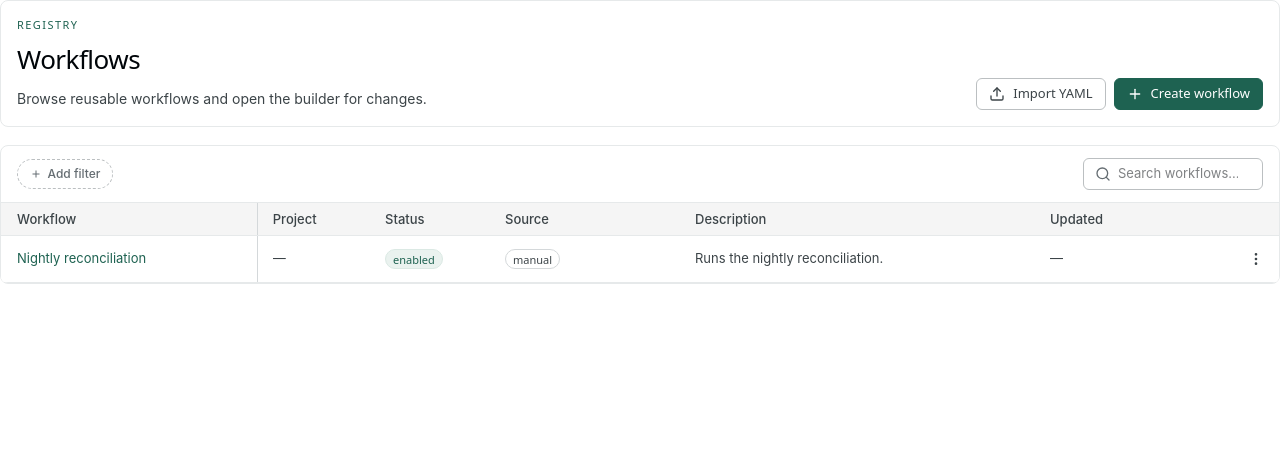
WorkflowsListPage › offers Builder, not View workflow, on an ordinary workflow's row
The width and height of the screenshot is (1280, 451).
Click the button named "Actions for nightly_reconciliation" at (1256, 259), box [1240,243,1272,275]
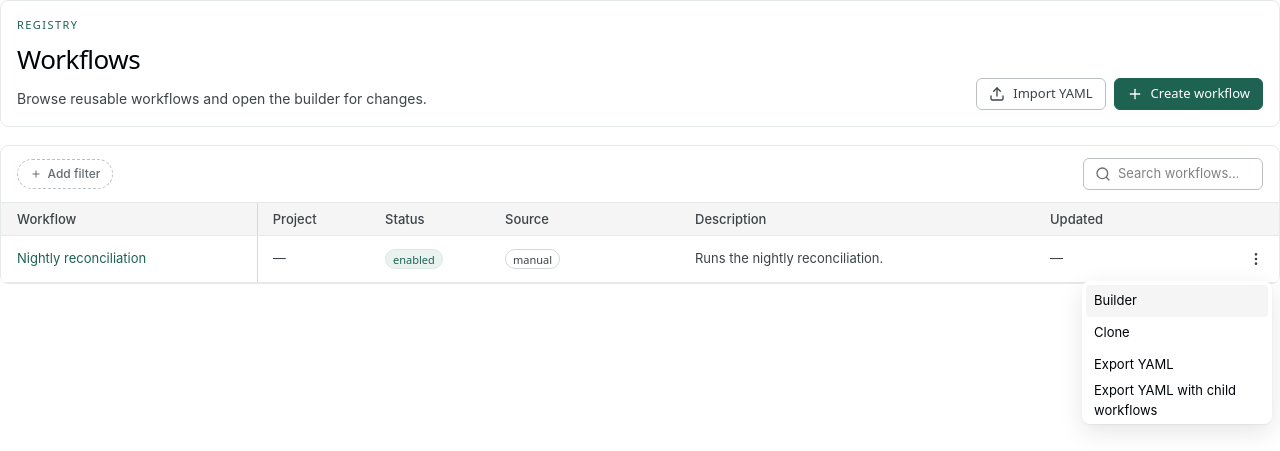
Expected: the menu item "Builder" is shown, [1086,285,1268,317]
